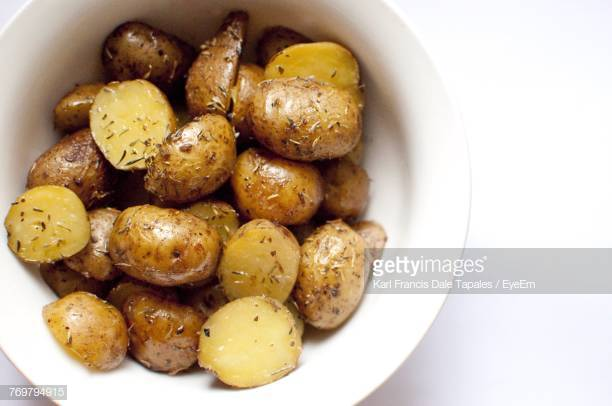boiled potatoes: (41, 101, 328, 366)
